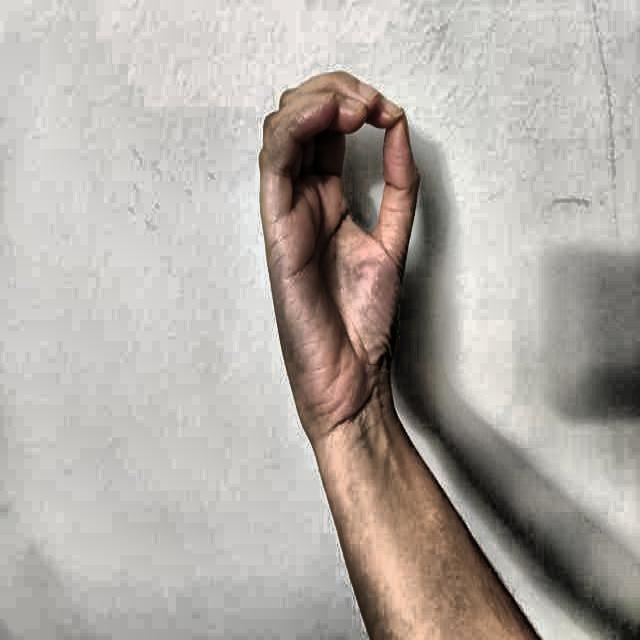O: (246, 49, 441, 470)
